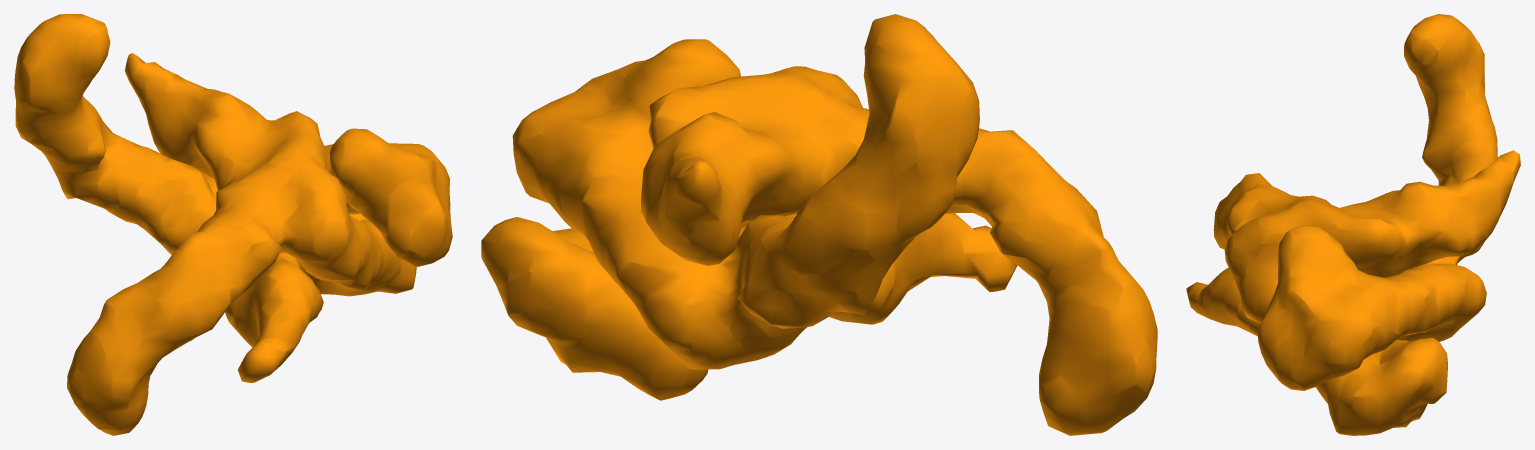
File: hu_prot.dae
The picture shows the model from 3 angles, left to right: view 1: azimuth 30°, elevation 25°; view 2: azimuth 150°, elevation 25°; view 3: azimuth 270°, elevation 25°; orthographic projection. The views are drawn at different scales.
Visible parts, largest first — view 1: CoarseMS_1p71_A.1; view 2: CoarseMS_1p71_A.1; view 3: CoarseMS_1p71_A.1.
Part boxes in pixels (<box>): CoarseMS_1p71_A.1: <box>14,14,452,435</box>; CoarseMS_1p71_A.1: <box>481,14,1157,435</box>; CoarseMS_1p71_A.1: <box>1186,14,1520,435</box>.
Bounding box in the file's own units: 59.39 × 47.8 × 44.99.
